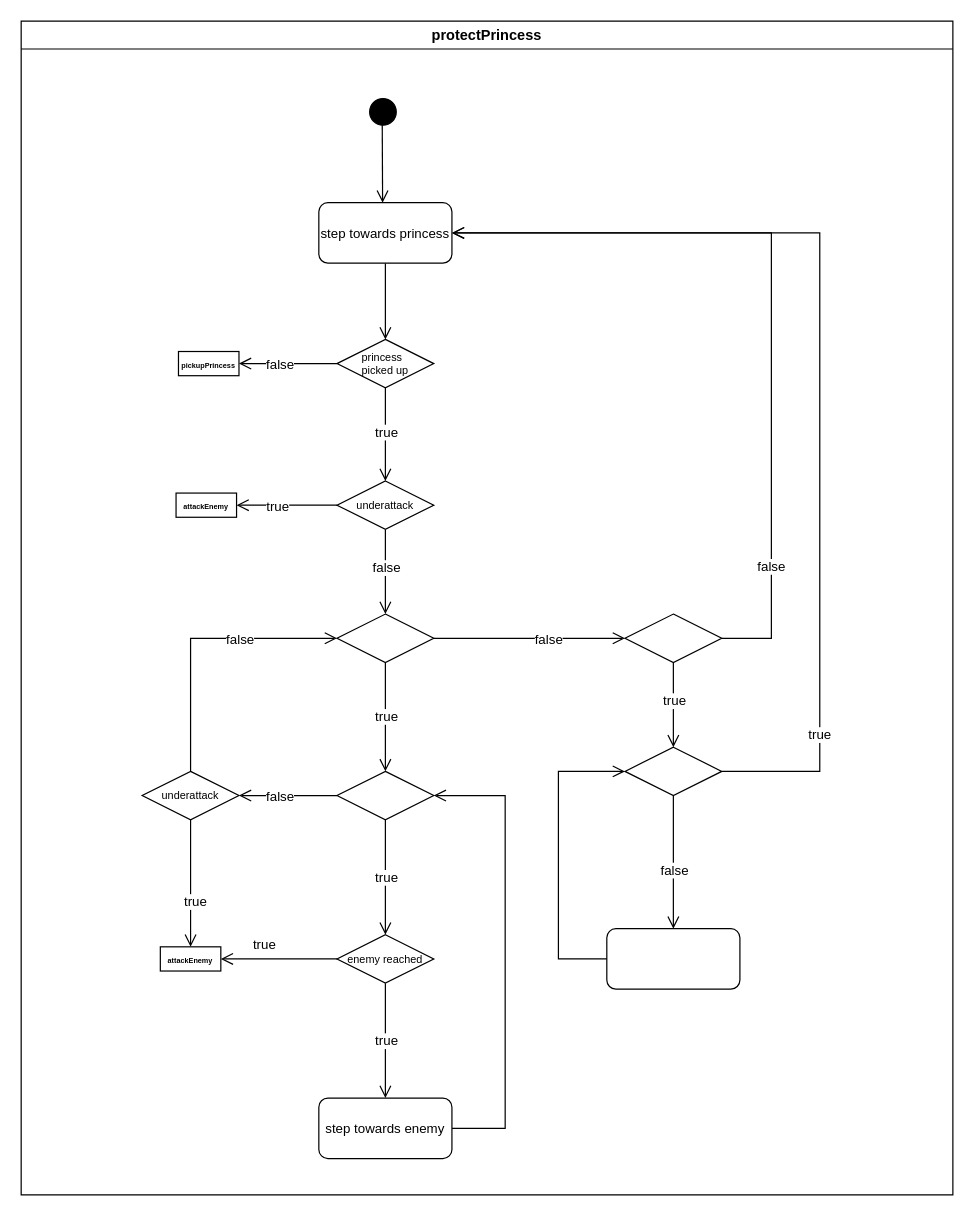
Image size: 974x1216. Some labels were removed from this diagram. The centre of each missing label's shape, as x and y in pixels:
"attack gate" goes at [673,958].
"GB_e broken" goes at [673,771].
"GB_e reached" goes at [673,637].
"princess reached" goes at [385,637].
"princess underattack" goes at [385,795].
